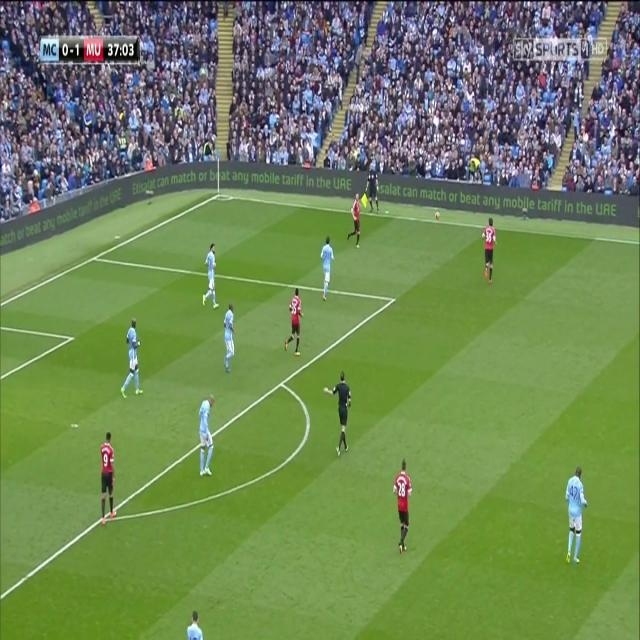Ball: (433, 209, 442, 223)
Player: (562, 464, 591, 566), (391, 457, 414, 555), (119, 317, 145, 402), (281, 285, 306, 359), (99, 431, 117, 529), (198, 392, 215, 485), (200, 242, 222, 313), (221, 302, 239, 376), (482, 216, 499, 289), (320, 233, 336, 307), (346, 192, 362, 252), (185, 609, 206, 639)
Referee: (322, 368, 353, 459), (364, 163, 382, 217)
